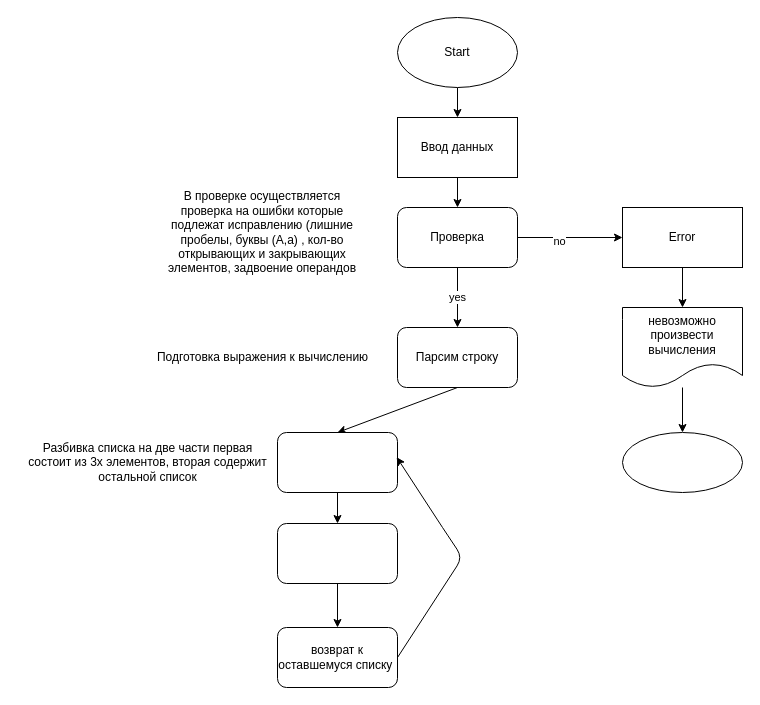
The diagram is 760 pixels wide and 705 high, and some of its shapes have lost their labels. Each missing label, with the box of its shape:
exit: (622, 432, 742, 492)
выполнение действий: (276, 432, 398, 492)
Вычисление операции над списком из 3х элементов: (276, 522, 398, 584)
